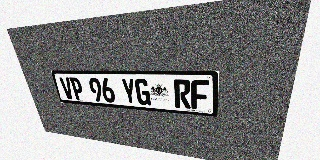6: (99, 78, 116, 103)
9: (88, 78, 104, 102)
F: (191, 80, 209, 110)
G: (134, 79, 151, 106)
P: (69, 77, 85, 100)
R: (174, 79, 191, 109)
V: (59, 77, 75, 100)
Y: (120, 78, 137, 105)
